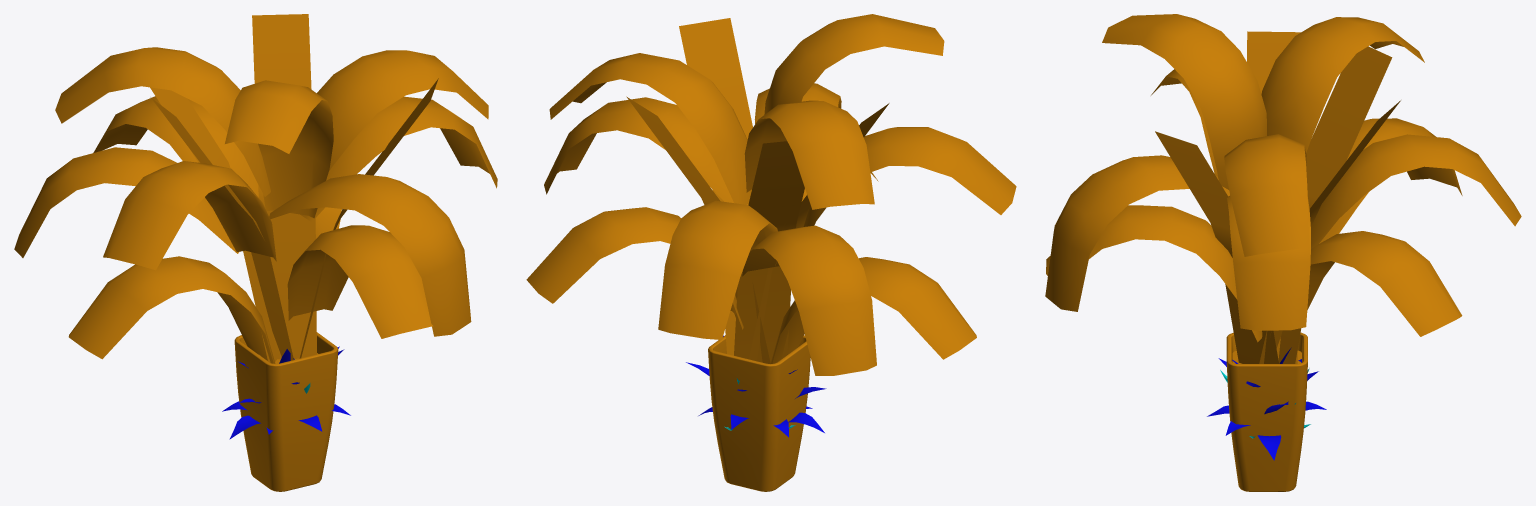
File: flower_pots.fbx
3 renders of one model, left to right at view 1: azimuth 30°, elevation 25°; view 2: azimuth 150°, elevation 25°; view 3: azimuth 270°, elevation 25°, orthographic.
Visible parts, largest first — view 1: plant_pot_3, plant_pot_2; view 2: plant_pot_3, plant_pot_2; view 3: plant_pot_3, plant_pot_2.
Boxes of the visible parts, <box> form: plant_pot_3: <box>14,14,497,491</box>; plant_pot_2: <box>222,346,350,439</box>; plant_pot_3: <box>526,14,1016,491</box>; plant_pot_2: <box>686,335,826,437</box>; plant_pot_3: <box>1045,14,1521,491</box>; plant_pot_2: <box>1207,347,1326,460</box>.
Size of the model in its own units: 167 by 165 by 166.
